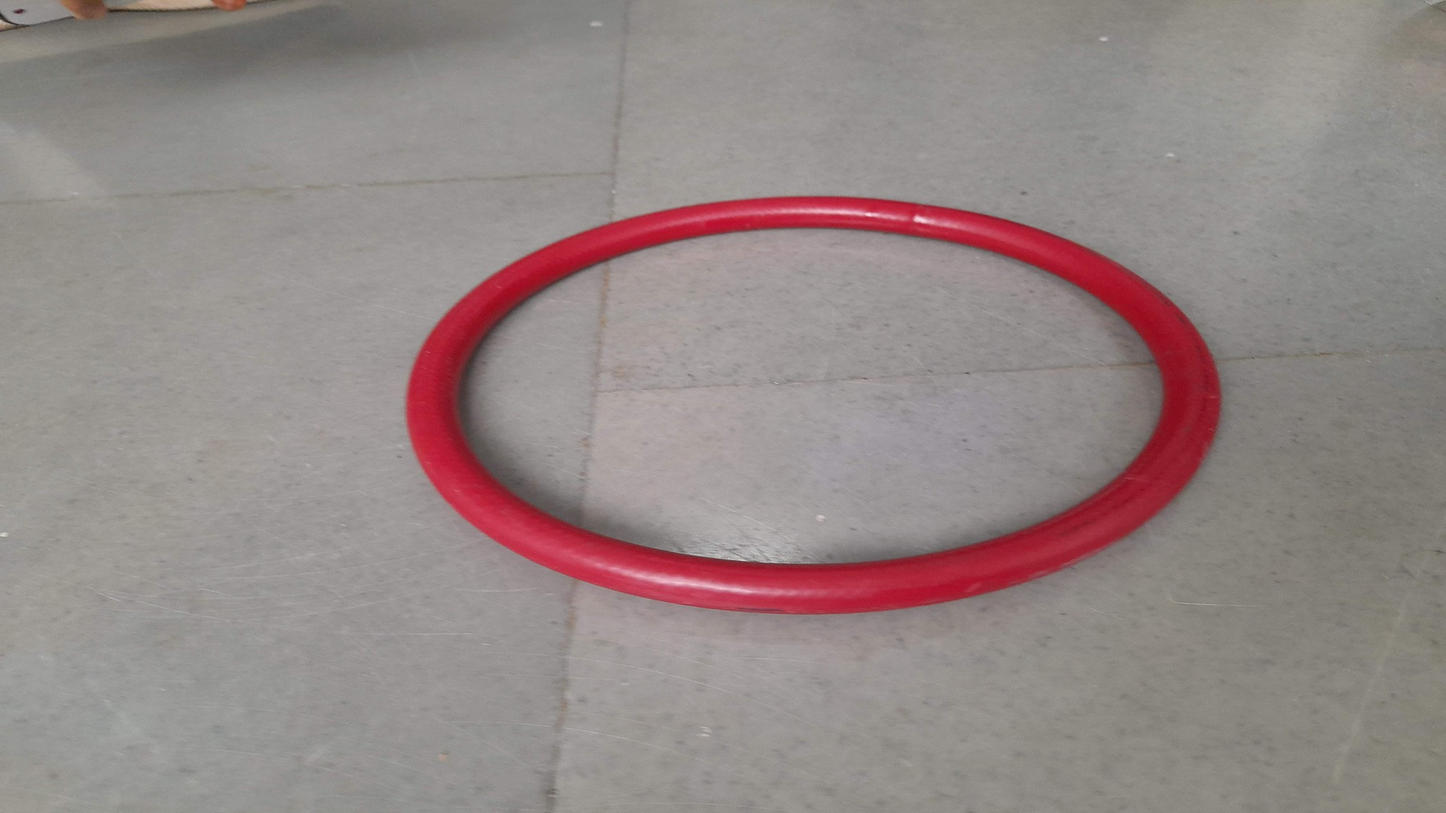Red ring: (409, 199, 1222, 607)
